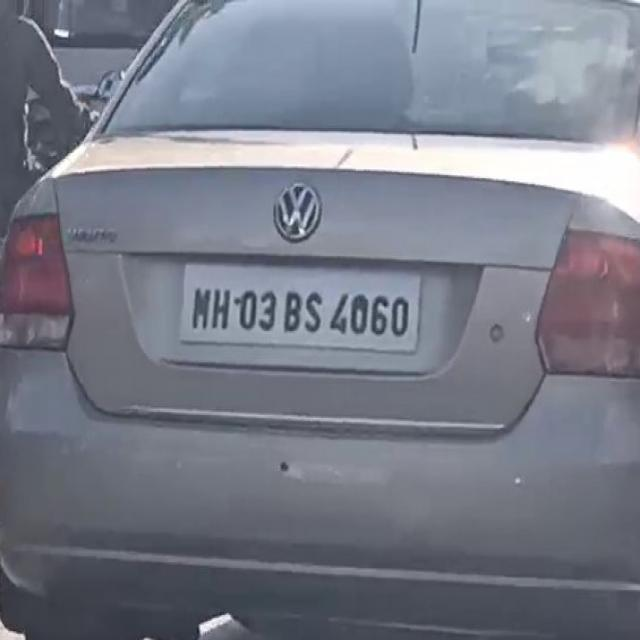license-plate: (178, 261, 419, 350)
